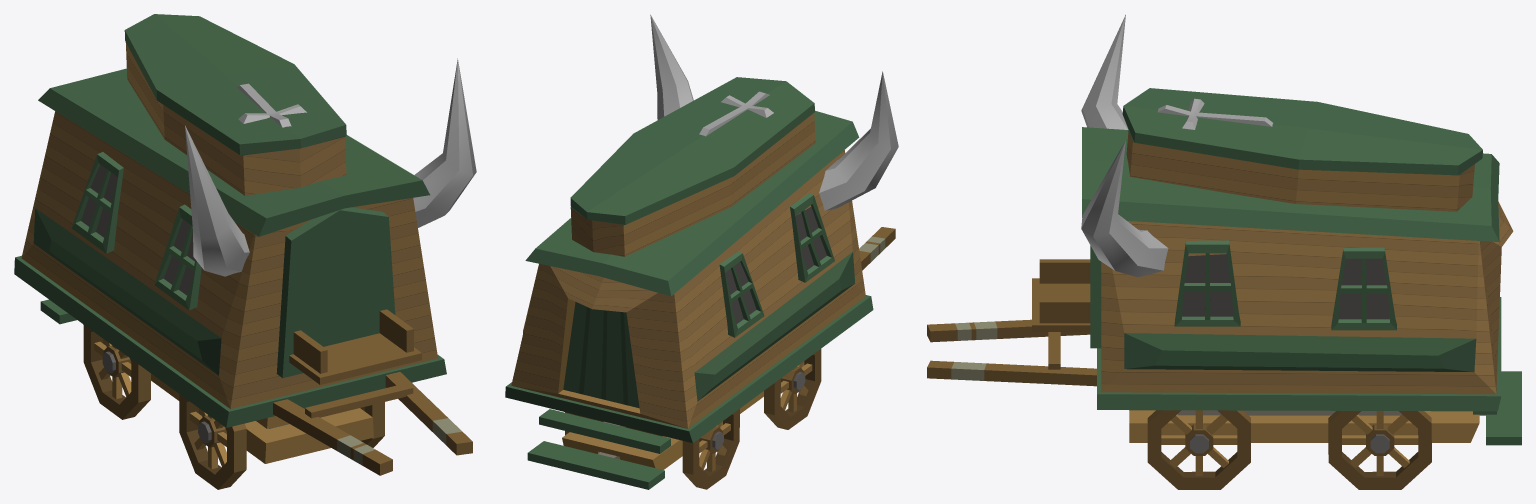
File: CQRRIOLE.fbx
The picture shows the model from 3 angles, left to right: view 1: azimuth 30°, elevation 25°; view 2: azimuth 150°, elevation 25°; view 3: azimuth 270°, elevation 25°; orthographic projection. The views are drawn at different scales.
Visible parts, largest first — view 1: pCone2; view 2: pCone2; view 3: pCone2.
Boxes of the visible parts, bbox=[...] form: pCone2: bbox=[14, 14, 476, 489]; pCone2: bbox=[505, 14, 898, 489]; pCone2: bbox=[927, 14, 1521, 489].
Size of the model in its own units: 4.58 by 6.34 by 9.03.
